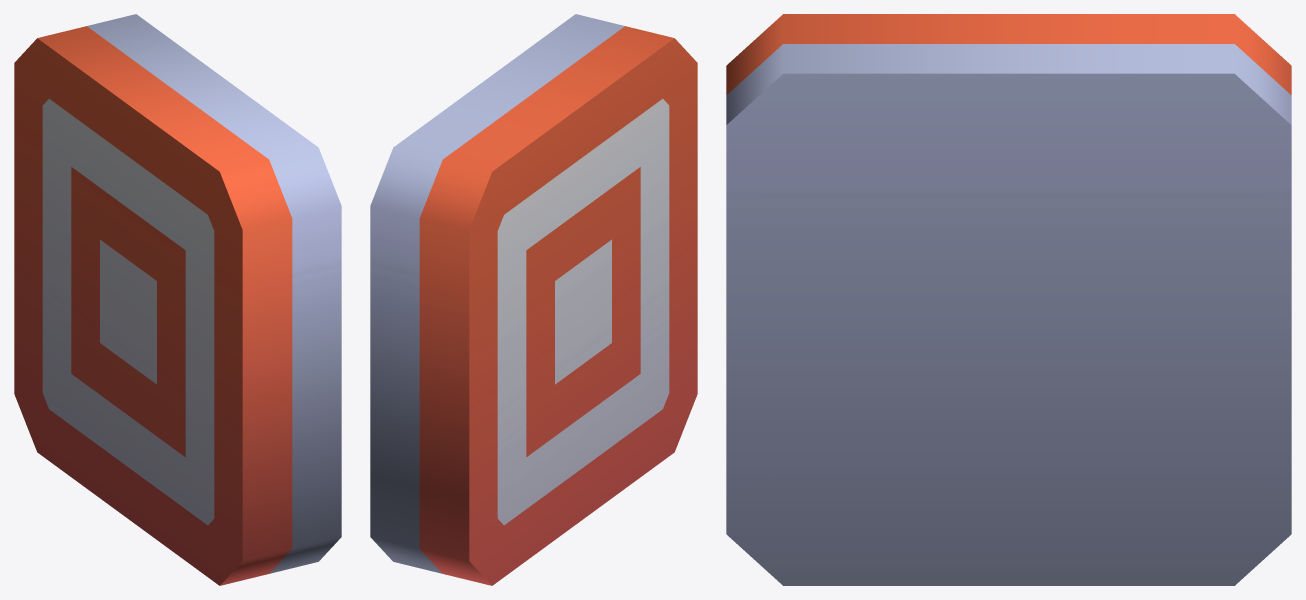
Rendered from kenney-prototype-target-b-square.glb.
3 renders of one model, left to right at view 1: azimuth 30°, elevation 25°; view 2: azimuth 150°, elevation 25°; view 3: azimuth 270°, elevation 25°, orthographic. The views are drawn at different scales.
Parts seen in each view (by area): view 1: target-b-square; view 2: target-b-square; view 3: target-b-square.
Boxes of the visible parts, box(x1,y1,x2,y2) form: target-b-square: box(14, 14, 341, 585); target-b-square: box(370, 14, 697, 585); target-b-square: box(726, 14, 1291, 585).
Size of the model in its own units: 0.124 by 0.496 by 0.496.
Materials: 1 (1 with a texture image).
